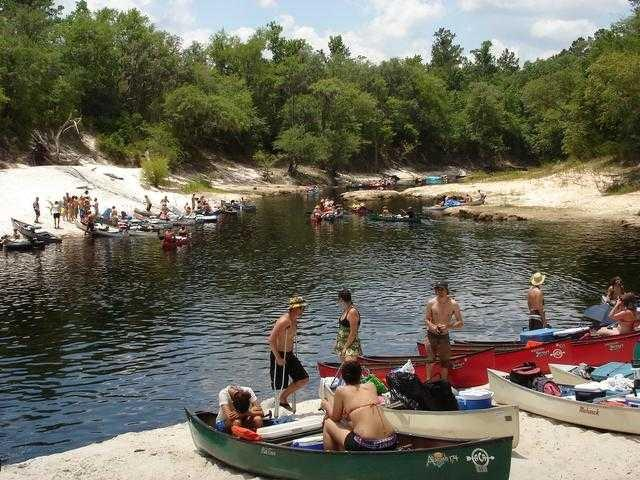kayak: (183, 404, 519, 480), (317, 315, 638, 390), (487, 361, 639, 435), (425, 191, 488, 212), (10, 217, 58, 244), (220, 199, 256, 214), (1, 237, 33, 251), (195, 212, 220, 223)
